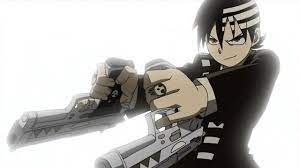gun: (5, 56, 131, 144)
